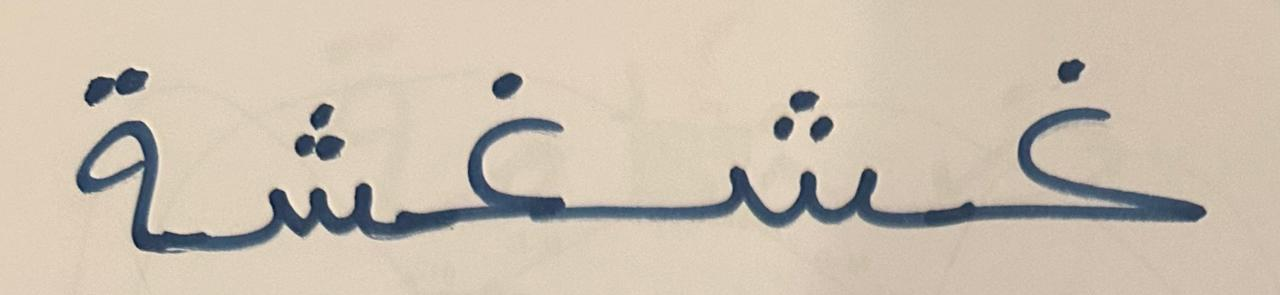ghain: (912, 17, 1247, 272), (414, 0, 626, 270)
sheen: (630, 4, 908, 268)
tah: (213, 7, 411, 275)
thal: (40, 9, 210, 279)
